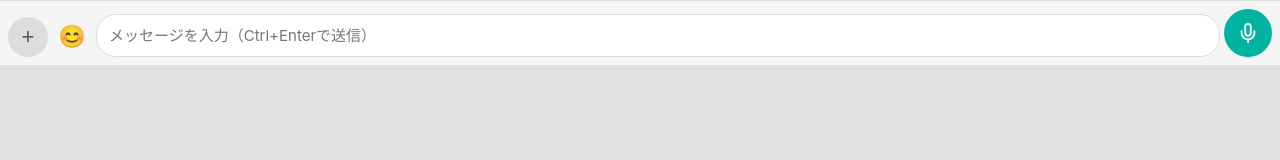
Test: MessageInput — 送れなかったとき (#537) › ★★ 文は入力欄に残り、理由が出る
The image size is (1280, 160).
Type "大事な返事" into the text box with class "message-input-text".
click(658, 36); type("大事な返事")  # box x1=96 y1=14 x2=1220 y2=57
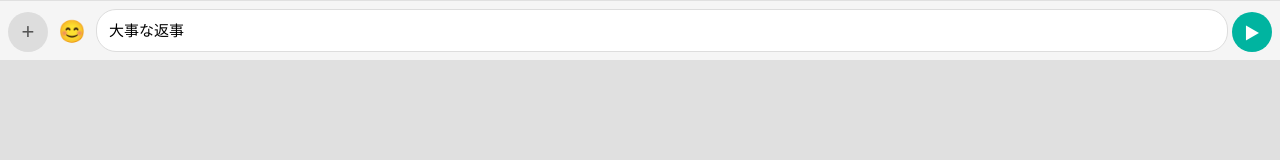
Press Enter in the text box with class "message-input-text", box x1=96 y1=9 x2=1228 y2=52
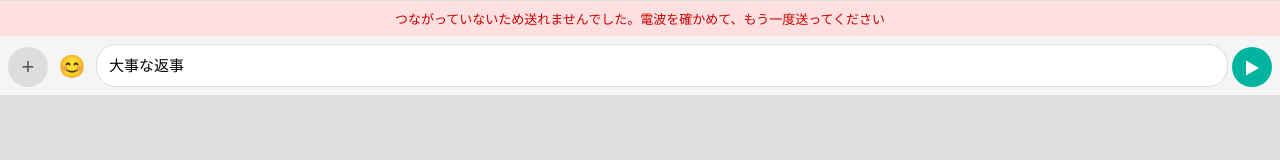
Expected: the text with class "message-input-error" shows "つながっていない", x1=395 y1=11 x2=885 y2=27
